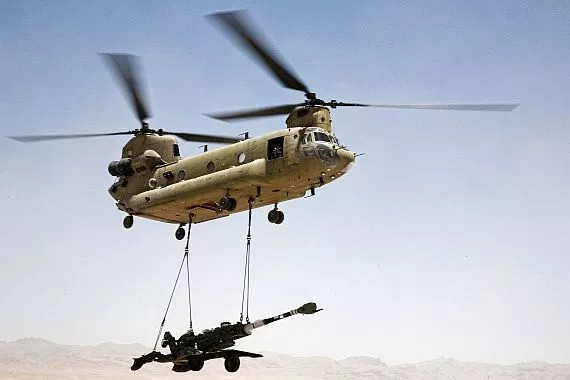chinook: (47, 38, 467, 242)
